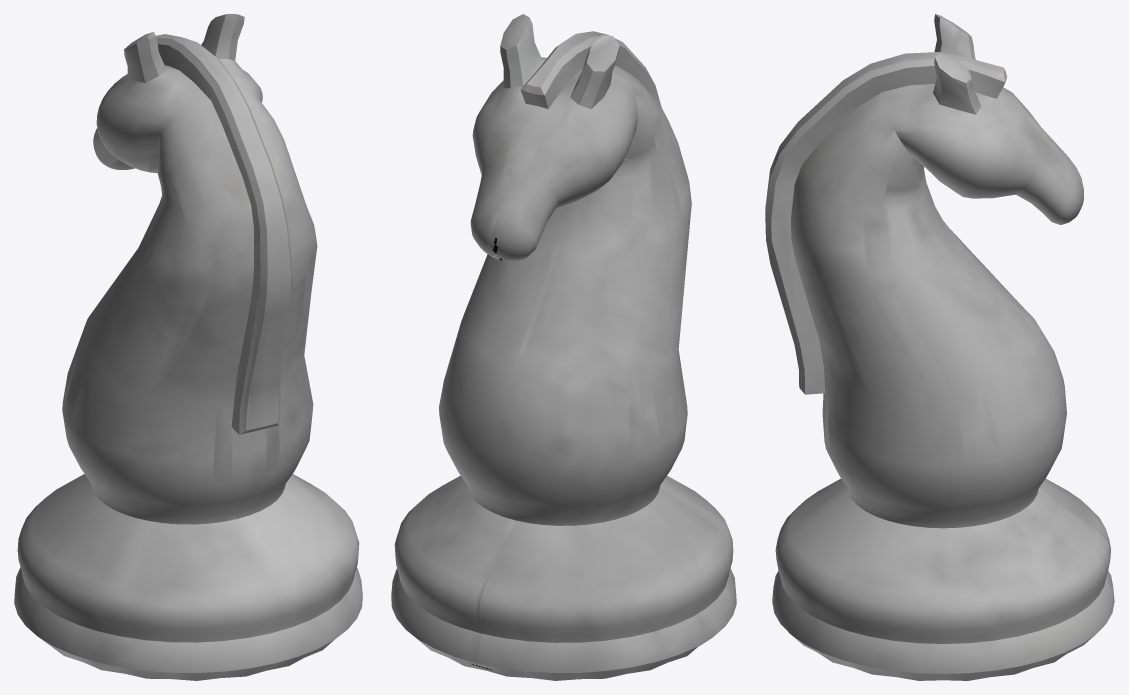
Rendered from caballo_Blanca.glb.
The picture shows the model from 3 angles, left to right: view 1: azimuth 30°, elevation 25°; view 2: azimuth 150°, elevation 25°; view 3: azimuth 270°, elevation 25°; orthographic projection.
Visible parts, largest first — view 1: defaultMaterial.008; view 2: defaultMaterial.008; view 3: defaultMaterial.008.
Part boxes in pixels (bbox=[...]): defaultMaterial.008: bbox=[14, 14, 362, 680]; defaultMaterial.008: bbox=[391, 14, 736, 680]; defaultMaterial.008: bbox=[765, 14, 1114, 680].
Size of the model in its own units: 0.7827 by 1.46 by 0.7982.
Materials: 1 (1 with a texture image).
